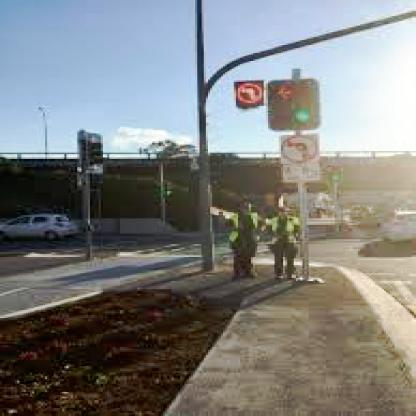No left turn: (282, 135, 322, 164)
